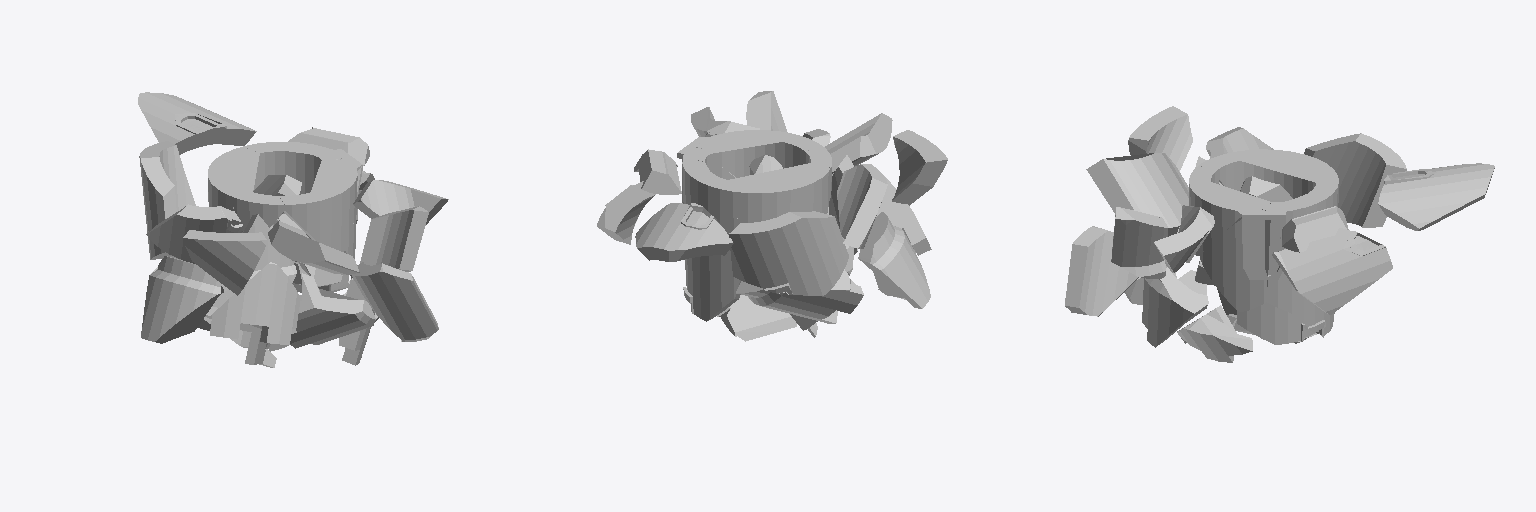
The model's file is destruction_tower_000049.obj.
3 views of the same model, side by side, from view 1: azimuth 30°, elevation 25°; view 2: azimuth 150°, elevation 25°; view 3: azimuth 270°, elevation 25° (orthographic).
Parts seen in each view (by area): view 1: tower.001_cell.005_Mesh.005, tower.001_cell.006_Mesh.006, tower.001_cell.028_Mesh.028, tower.001_cell.025_Mesh.025, tower.001_cell.021_Mesh.021, tower.001_cell.011_Mesh.011, tower.001_cell.003_Mesh.003, tower.001_cell.002_Mesh.002, tower.001_cell_Mesh, tower.001_cell.009_Mesh.009, tower.001_cell.015_Mesh.015, tower.001_cell.024_Mesh.024 (+9 smaller); view 2: tower.001_cell.003_Mesh.003, tower.001_cell.017_Mesh.017, tower.001_cell.015_Mesh.015, tower.001_cell.025_Mesh.025, tower.001_cell.005_Mesh.005, tower.001_cell.028_Mesh.028, tower.001_cell.009_Mesh.009, tower.001_cell.007_Mesh.007, tower.001_cell.002_Mesh.002, tower.001_cell.024_Mesh.024, tower.001_cell.029_Mesh.029, tower.001_cell.012_Mesh.012 (+6 smaller); view 3: tower.001_cell.012_Mesh.012, tower.001_cell.025_Mesh.025, tower.001_cell.024_Mesh.024, tower.001_cell.003_Mesh.003, tower.001_cell.020_Mesh.020, tower.001_cell.021_Mesh.021, tower.001_cell.023_Mesh.023, tower.001_cell_Mesh, tower.001_cell.015_Mesh.015, tower.001_cell.028_Mesh.028, tower.001_cell.002_Mesh.002, tower.001_cell.030_Mesh.030 (+8 smaller).
Boxes of the visible parts, x1=… form: tower.001_cell.005_Mesh.005: x1=141, y1=256, x2=221, y2=343; tower.001_cell.006_Mesh.006: x1=209, y1=262, x2=299, y2=344; tower.001_cell.028_Mesh.028: x1=279, y1=159, x2=362, y2=251; tower.001_cell.025_Mesh.025: x1=138, y1=92, x2=256, y2=154; tower.001_cell.021_Mesh.021: x1=350, y1=262, x2=438, y2=341; tower.001_cell.011_Mesh.011: x1=290, y1=273, x2=375, y2=348; tower.001_cell.003_Mesh.003: x1=139, y1=141, x2=195, y2=259; tower.001_cell.002_Mesh.002: x1=183, y1=230, x2=266, y2=295; tower.001_cell_Mesh: x1=360, y1=206, x2=428, y2=271; tower.001_cell.009_Mesh.009: x1=146, y1=204, x2=243, y2=262; tower.001_cell.015_Mesh.015: x1=208, y1=147, x2=259, y2=231; tower.001_cell.024_Mesh.024: x1=268, y1=221, x2=359, y2=274; tower.001_cell.003_Mesh.003: x1=729, y1=211, x2=848, y2=295; tower.001_cell.017_Mesh.017: x1=682, y1=157, x2=740, y2=321; tower.001_cell.015_Mesh.015: x1=723, y1=163, x2=830, y2=222; tower.001_cell.025_Mesh.025: x1=635, y1=203, x2=733, y2=261; tower.001_cell.005_Mesh.005: x1=858, y1=212, x2=930, y2=308; tower.001_cell.028_Mesh.028: x1=699, y1=130, x2=819, y2=177; tower.001_cell.009_Mesh.009: x1=837, y1=164, x2=887, y2=248; tower.001_cell.007_Mesh.007: x1=736, y1=269, x2=863, y2=323; tower.001_cell.002_Mesh.002: x1=892, y1=130, x2=947, y2=205; tower.001_cell.024_Mesh.024: x1=825, y1=113, x2=892, y2=175; tower.001_cell.029_Mesh.029: x1=720, y1=295, x2=796, y2=341; tower.001_cell.012_Mesh.012: x1=597, y1=181, x2=655, y2=244; tower.001_cell.012_Mesh.012: x1=1272, y1=228, x2=1392, y2=314; tower.001_cell.025_Mesh.025: x1=1378, y1=163, x2=1494, y2=230; tower.001_cell.024_Mesh.024: x1=1086, y1=153, x2=1188, y2=236; tower.001_cell.003_Mesh.003: x1=1304, y1=133, x2=1406, y2=227; tower.001_cell.020_Mesh.020: x1=1200, y1=209, x2=1270, y2=311; tower.001_cell.021_Mesh.021: x1=1065, y1=226, x2=1138, y2=316; tower.001_cell.023_Mesh.023: x1=1142, y1=266, x2=1208, y2=347; tower.001_cell_Mesh: x1=1111, y1=207, x2=1167, y2=278; tower.001_cell.015_Mesh.015: x1=1240, y1=149, x2=1338, y2=198; tower.001_cell.028_Mesh.028: x1=1189, y1=166, x2=1271, y2=255; tower.001_cell.002_Mesh.002: x1=1128, y1=106, x2=1192, y2=171; tower.001_cell.030_Mesh.030: x1=1177, y1=305, x2=1252, y2=362.
Size of the model in its own units: 88.68 by 55.39 by 123.